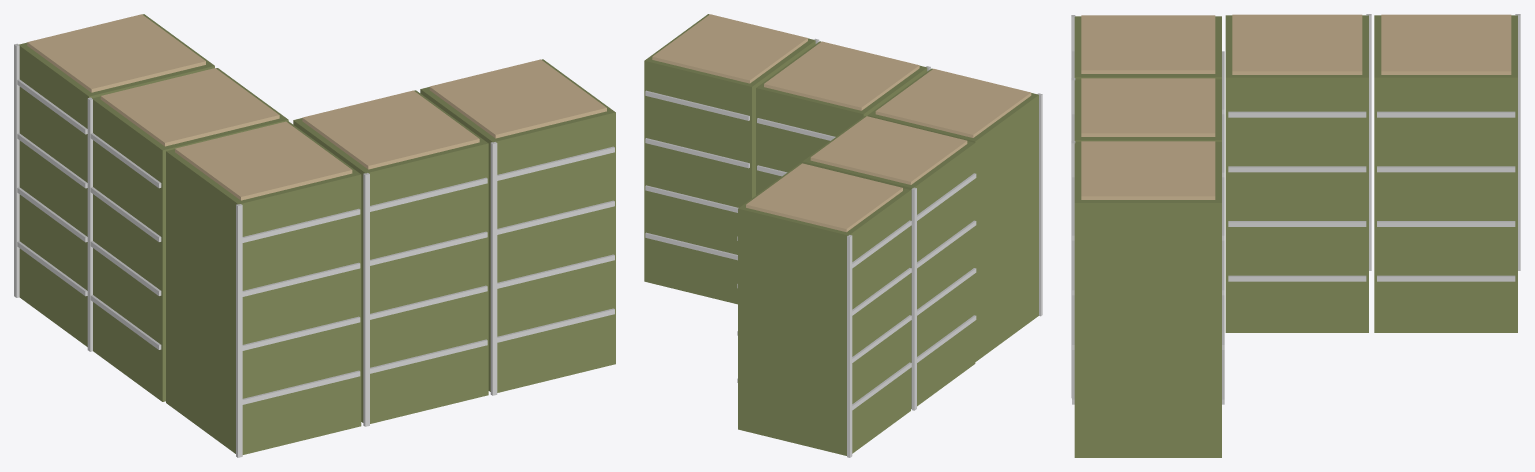
File: SM_HescoEsquina_v0_MallaLimpia_e0_Sano_LOD0.fbx
3 renders of one model, left to right at view 1: azimuth 30°, elevation 25°; view 2: azimuth 150°, elevation 25°; view 3: azimuth 270°, elevation 25°, orthographic. The views are drawn at different scales.
Visible parts, largest first — view 1: SM_hesco_piezas_v0_LOD0; view 2: SM_hesco_piezas_v0_LOD0; view 3: SM_hesco_piezas_v0_LOD0.
Part boxes in pixels (bbox=[...]): SM_hesco_piezas_v0_LOD0: bbox=[14, 14, 615, 457]; SM_hesco_piezas_v0_LOD0: bbox=[644, 14, 1042, 457]; SM_hesco_piezas_v0_LOD0: bbox=[1071, 14, 1520, 457].
Bounding box in the file's own units: 3.33 × 2.13 × 3.35.
